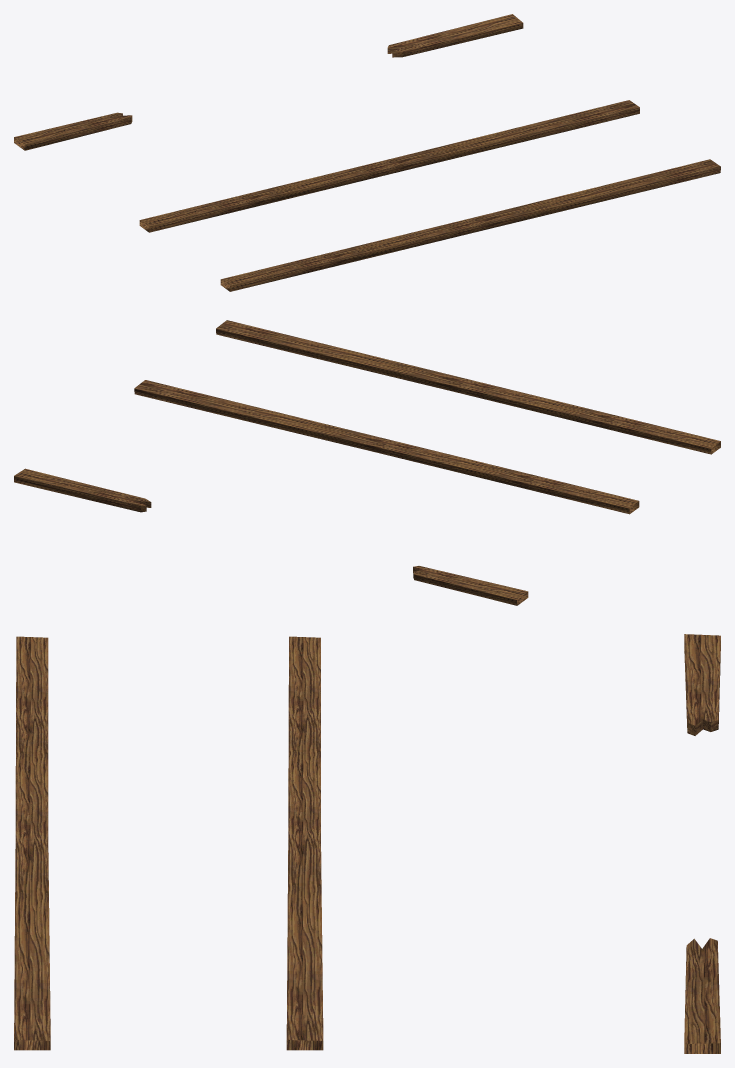
Rendered from LAKETOWN_WAREHOUSE3_PS_WH3_RAFTER8585759.fbx.
The picture shows the model from 3 angles, top to bottom: view 1: azimuth 30°, elevation 25°; view 2: azimuth 150°, elevation 25°; view 3: azimuth 270°, elevation 25°; orthographic projection. The views are drawn at different scales.
Visible parts, largest first — view 1: LAKETOWN_WAREHOUSE3_PS_WH3_RAFTER8585759; view 2: LAKETOWN_WAREHOUSE3_PS_WH3_RAFTER8585759; view 3: LAKETOWN_WAREHOUSE3_PS_WH3_RAFTER8585759.
Part boxes in pixels (x1,y1,x2,y2): LAKETOWN_WAREHOUSE3_PS_WH3_RAFTER8585759: (14,14,720,291); LAKETOWN_WAREHOUSE3_PS_WH3_RAFTER8585759: (14,320,720,605); LAKETOWN_WAREHOUSE3_PS_WH3_RAFTER8585759: (14,634,720,1053).
Bounding box in the file's own units: 151791 × 2488 × 110532.
Materials: 1 (1 with a texture image).
